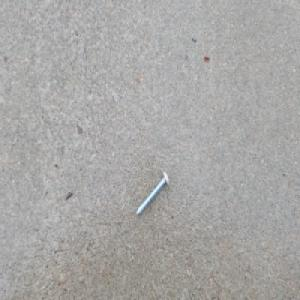Nail: (135, 169, 169, 217)
